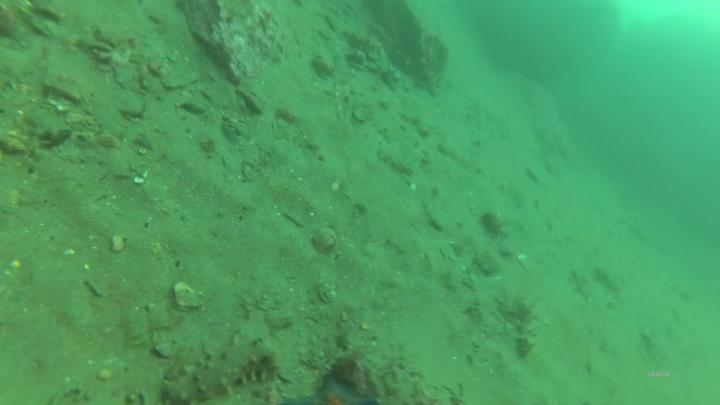holothurian: (166, 342, 280, 403), (344, 26, 386, 58)
starfish: (303, 374, 372, 405)
